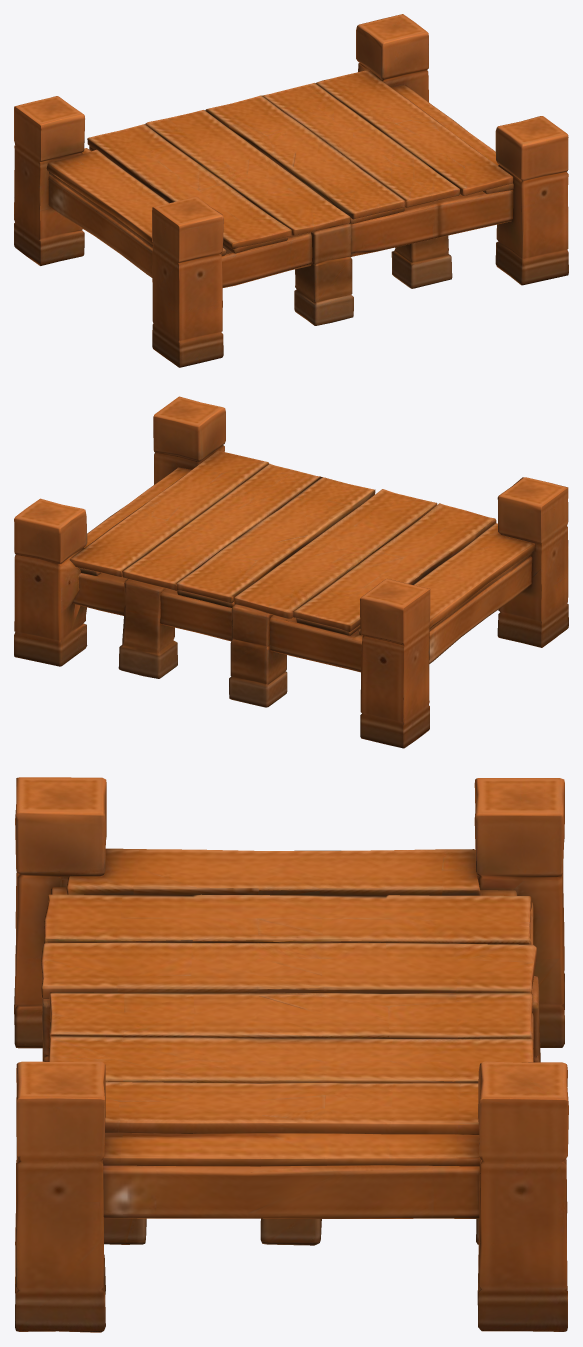
Rendered from s2_r4c4_low_machine_platform.glb.
The picture shows the model from 3 angles, top to bottom: view 1: azimuth 30°, elevation 25°; view 2: azimuth 150°, elevation 25°; view 3: azimuth 270°, elevation 25°; orthographic projection. The views are drawn at different scales.
Bounding box in the file's own units: 1 × 0.3574 × 0.7445.
Materials: 1 (1 with a texture image).
